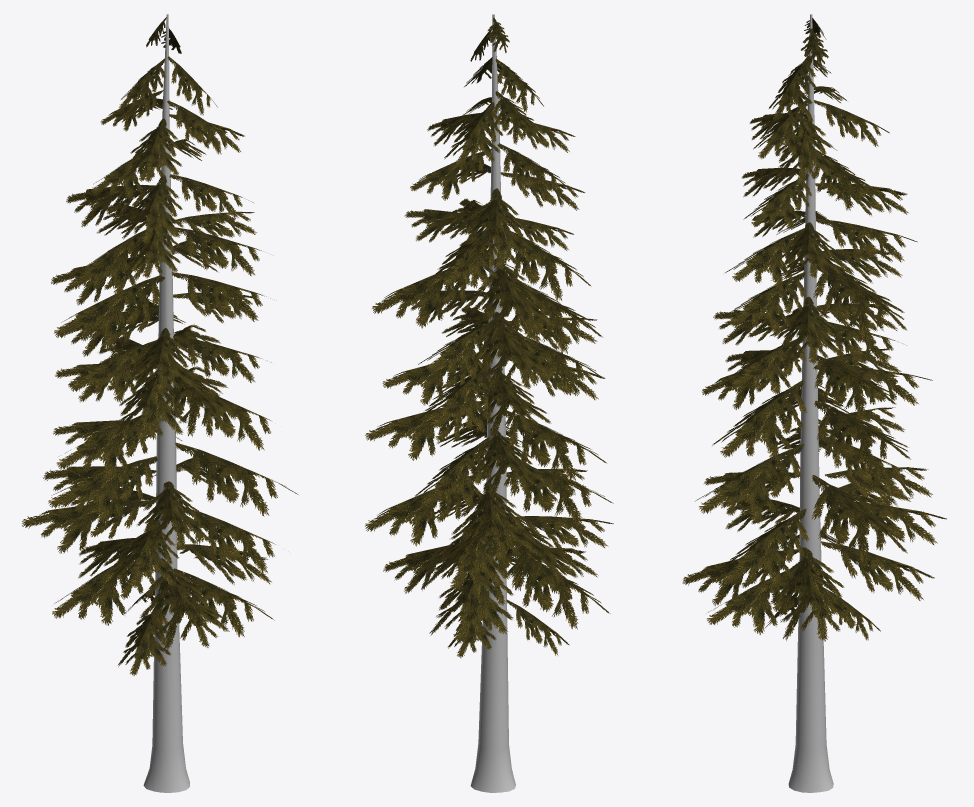
File: pine_tree_n_3_1.obj
3 views of the same model, side by side, from view 1: azimuth 30°, elevation 25°; view 2: azimuth 150°, elevation 25°; view 3: azimuth 270°, elevation 25° (orthographic).
Visible parts, largest first — view 1: pine_tree_n_3_1; view 2: pine_tree_n_3_1; view 3: pine_tree_n_3_1.
Boxes of the visible parts, <box> form: pine_tree_n_3_1: <box>22,14,297,792</box>; pine_tree_n_3_1: <box>365,14,613,792</box>; pine_tree_n_3_1: <box>682,14,946,792</box>.
Size of the model in its own units: 3 by 9.1 by 3.13.
